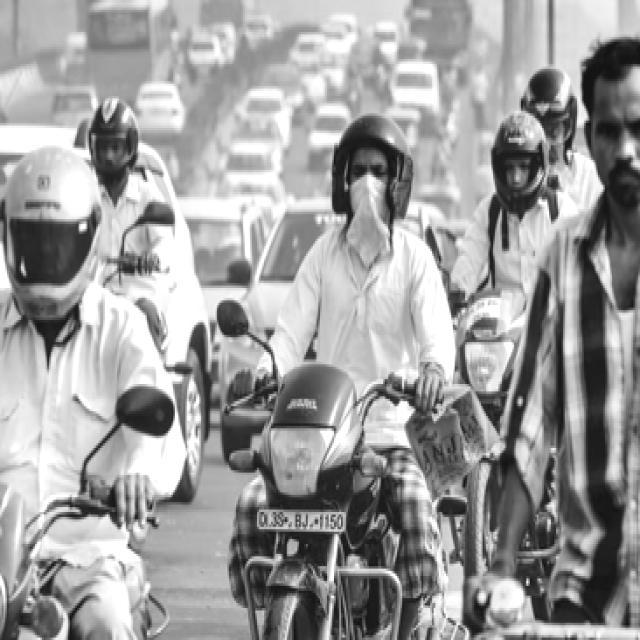Helmet: (0, 147, 101, 322), (328, 106, 414, 229), (490, 103, 550, 207), (85, 96, 138, 180)
